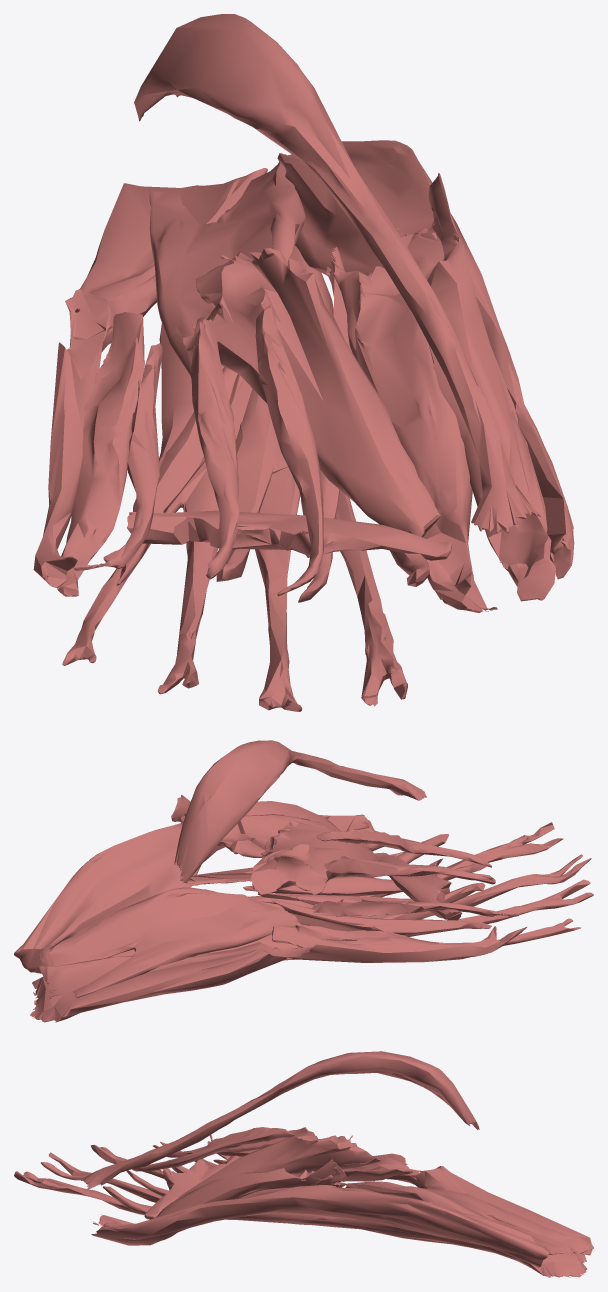
File: muscular-foot-right.glb
3 renders of one model, top to bottom at view 1: azimuth 30°, elevation 25°; view 2: azimuth 150°, elevation 25°; view 3: azimuth 270°, elevation 25°, orthographic. The views are drawn at different scales.
Visible parts, largest first — view 1: bp3d_FMA51144_FJ1407, bp3d_FMA46018_FJ1398, bp3d_FMA37461_FJ1413, bp3d_FMA45973_FJ1393, bp3d_FMA37463_FJ1390, bp3d_FMA37459_FJ1400, bp3d_FMA45971_FJ1396, bp3d_FMA37465_FJ1412, bp3d_FMA37471_FJ1391, bp3d_FMA46020_FJ1445, bp3d_FMA37745_FJ1384, bp3d_FMA37743_FJ1386 (+5 smaller); view 2: bp3d_FMA37465_FJ1412, bp3d_FMA37463_FJ1390, bp3d_FMA37459_FJ1400, bp3d_FMA51144_FJ1407, bp3d_FMA37461_FJ1413, bp3d_FMA46018_FJ1398, bp3d_FMA37483_FJ1389, bp3d_FMA37471_FJ1391, bp3d_FMA37741_FJ1388, bp3d_FMA45973_FJ1393, bp3d_FMA37743_FJ1386, bp3d_FMA37745_FJ1384 (+5 smaller); view 3: bp3d_FMA37459_FJ1400, bp3d_FMA51144_FJ1407, bp3d_FMA37461_FJ1413, bp3d_FMA46018_FJ1398, bp3d_FMA37463_FJ1390, bp3d_FMA45971_FJ1396, bp3d_FMA37465_FJ1412, bp3d_FMA37745_FJ1384, bp3d_FMA46020_FJ1445, bp3d_FMA37471_FJ1391, bp3d_FMA45973_FJ1393, bp3d_FMA37743_FJ1386 (+1 smaller).
Boxes of the visible parts, x1,y1,x2,y2 form: bp3d_FMA51144_FJ1407: [134, 14, 540, 533]; bp3d_FMA46018_FJ1398: [181, 248, 440, 536]; bp3d_FMA37461_FJ1413: [62, 245, 407, 711]; bp3d_FMA45973_FJ1393: [333, 221, 497, 612]; bp3d_FMA37463_FJ1390: [33, 168, 267, 587]; bp3d_FMA37459_FJ1400: [277, 140, 574, 579]; bp3d_FMA45971_FJ1396: [427, 173, 555, 601]; bp3d_FMA37465_FJ1412: [149, 154, 305, 378]; bp3d_FMA37471_FJ1391: [57, 312, 144, 596]; bp3d_FMA46020_FJ1445: [127, 510, 451, 560]; bp3d_FMA37745_FJ1384: [255, 303, 323, 596]; bp3d_FMA37743_FJ1386: [190, 319, 239, 579]; bp3d_FMA37465_FJ1412: [39, 887, 301, 998]; bp3d_FMA37463_FJ1390: [37, 926, 508, 1018]; bp3d_FMA37459_FJ1400: [14, 814, 374, 973]; bp3d_FMA51144_FJ1407: [174, 740, 426, 884]; bp3d_FMA37461_FJ1413: [30, 822, 593, 1022]; bp3d_FMA46018_FJ1398: [250, 820, 380, 894]; bp3d_FMA37483_FJ1389: [271, 900, 491, 934]; bp3d_FMA37471_FJ1391: [272, 925, 526, 956]; bp3d_FMA37741_FJ1388: [311, 898, 519, 916]; bp3d_FMA45973_FJ1393: [182, 815, 422, 877]; bp3d_FMA37743_FJ1386: [324, 855, 495, 884]; bp3d_FMA37745_FJ1384: [317, 829, 491, 867]; bp3d_FMA37459_FJ1400: [96, 1185, 548, 1267]; bp3d_FMA51144_FJ1407: [81, 1051, 479, 1189]; bp3d_FMA37461_FJ1413: [14, 1141, 587, 1277]; bp3d_FMA46018_FJ1398: [162, 1135, 382, 1209]; bp3d_FMA37463_FJ1390: [364, 1153, 593, 1255]; bp3d_FMA45971_FJ1396: [91, 1159, 346, 1245]; bp3d_FMA37465_FJ1412: [345, 1181, 571, 1245]; bp3d_FMA37745_FJ1384: [132, 1127, 294, 1171]; bp3d_FMA46020_FJ1445: [144, 1155, 240, 1219]; bp3d_FMA37471_FJ1391: [207, 1141, 412, 1181]; bp3d_FMA45973_FJ1393: [93, 1167, 345, 1231]; bp3d_FMA37743_FJ1386: [167, 1127, 314, 1157].
Bounding box in the file's own units: 0.1105 × 0.0654 × 0.1745.
